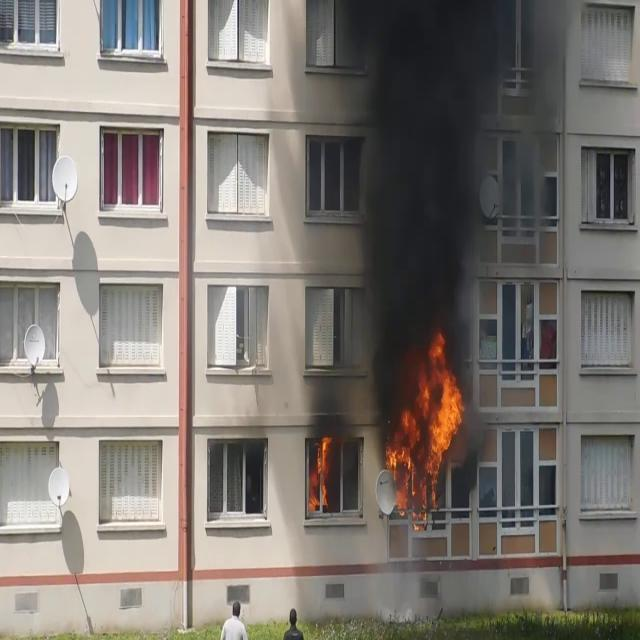Fire: (389, 336, 466, 512), (311, 430, 334, 510)
Smoke: (344, 1, 504, 393)
